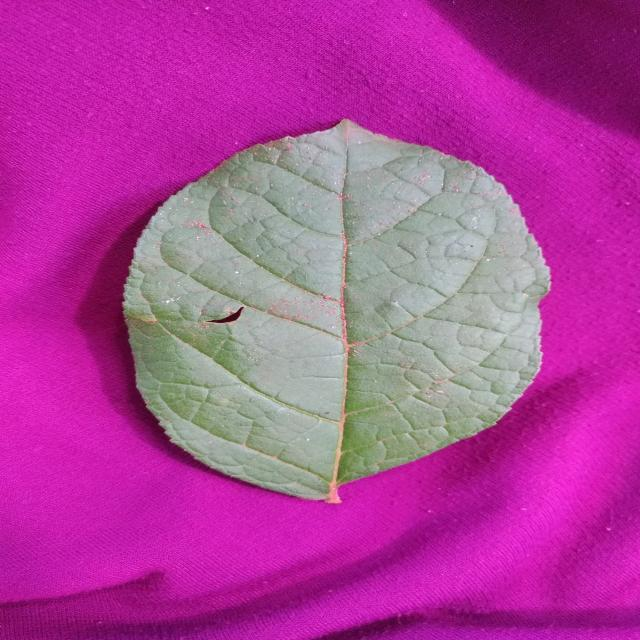padri: (124, 120, 549, 502)
